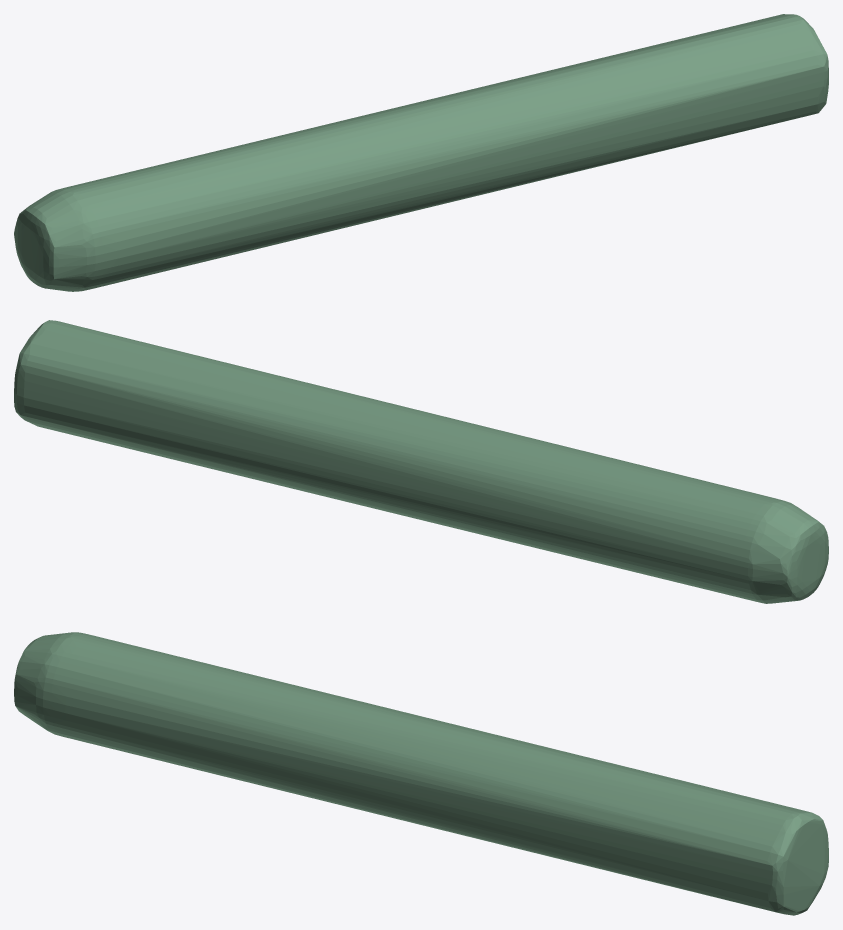
The model's file is coacd_collision.obj.
The picture shows the model from 3 angles, top to bottom: view 1: azimuth 30°, elevation 25°; view 2: azimuth 150°, elevation 25°; view 3: azimuth 330°, elevation 25°; orthographic projection.
Visible parts, largest first — view 1: geometry_0; view 2: geometry_0; view 3: geometry_0.
Part boxes in pixels (<box>): geometry_0: <box>14,14,828,291</box>; geometry_0: <box>14,320,828,603</box>; geometry_0: <box>14,632,828,915</box>.
Size of the model in its own units: 146 by 18.02 by 17.62.
